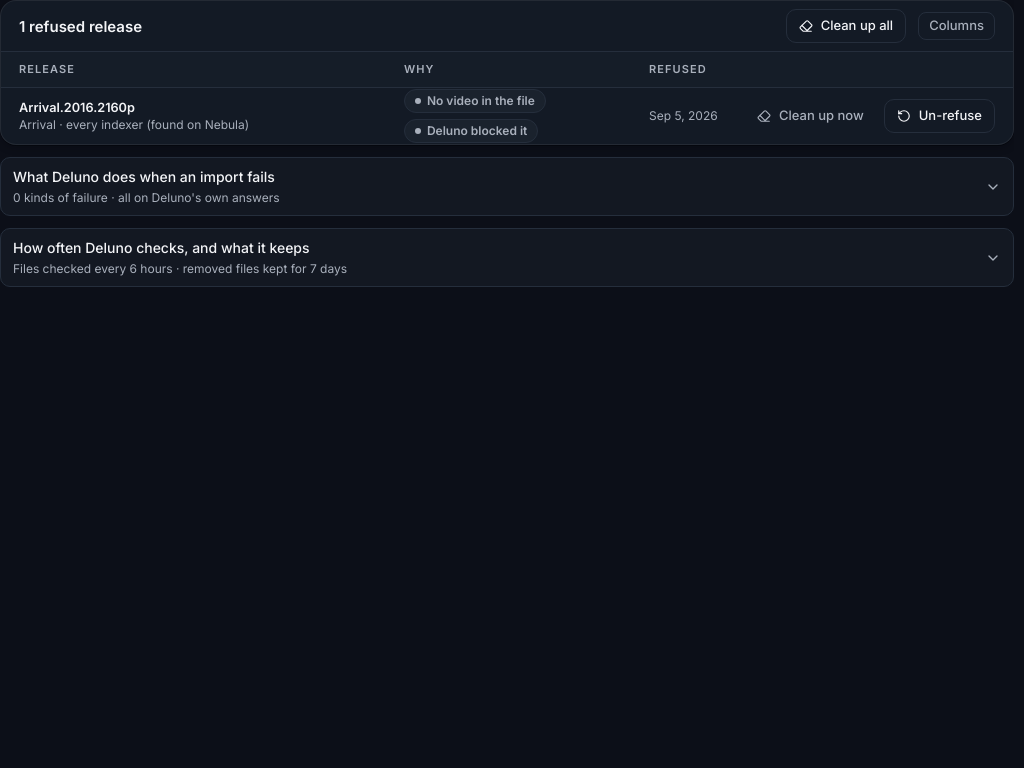
it: the blocklist's row states › clicking a row opens its drawer with the release, what found it, why, and when it was refused
Click the text "Arrival.2016.2160p" at (77, 107), box left=19, top=100, right=135, bottom=115
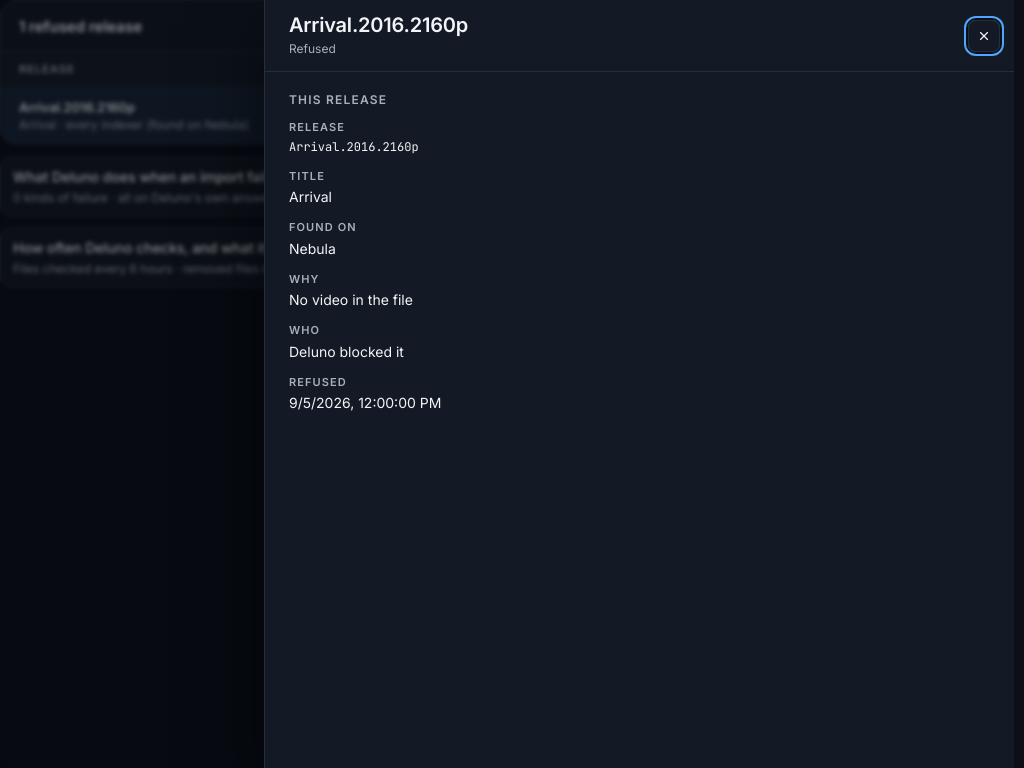
Check: the dialog shows "Found on", box left=289, top=220, right=357, bottom=234
Check: the dialog shows "Nebula", box left=289, top=240, right=336, bottom=256
Check: the dialog shows "No video in the file", box left=289, top=291, right=413, bottom=308
